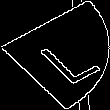L_NW: (17, 25, 93, 85)
